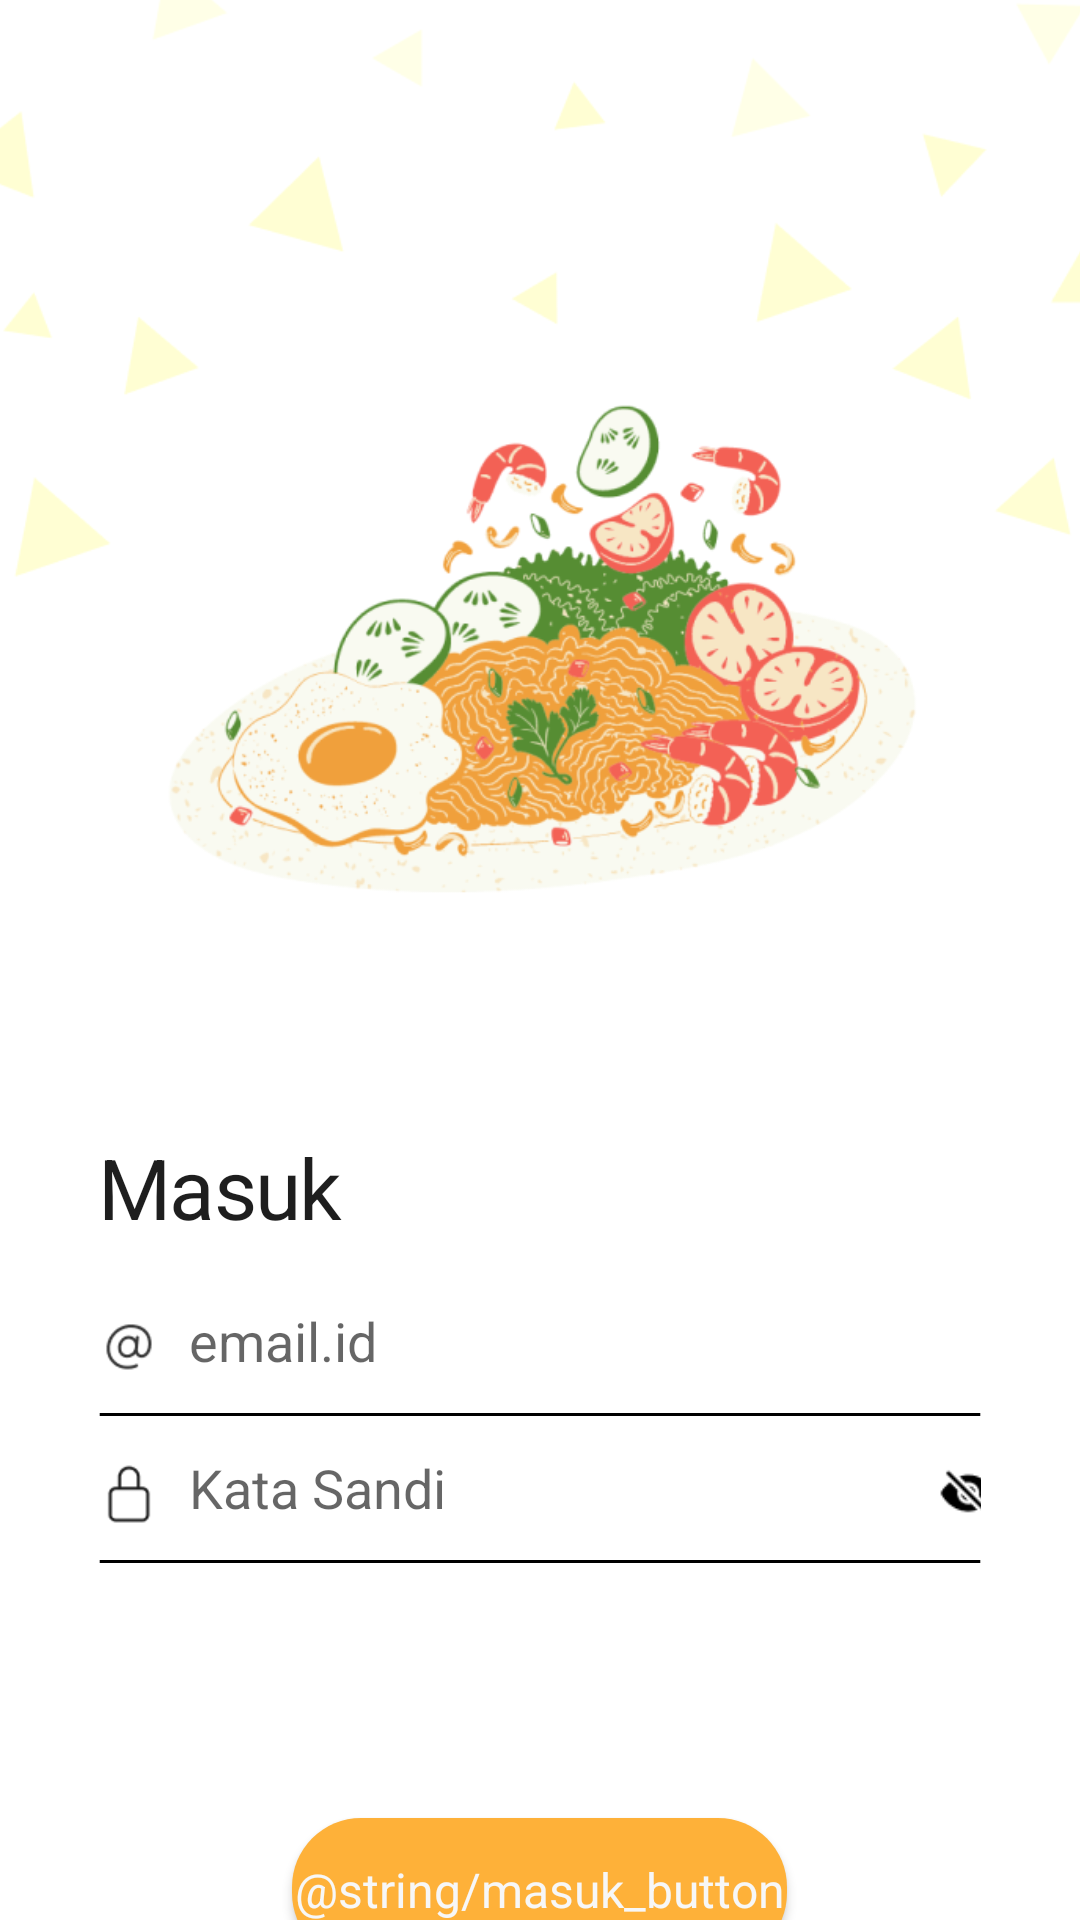

Screen size 1080*1920. Icon name, then its center in pixels as (x=x, y=y):
alternate email: (x=129, y=1347)
locked: (x=129, y=1494)
